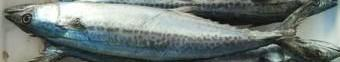fish: (2, 0, 324, 61)
